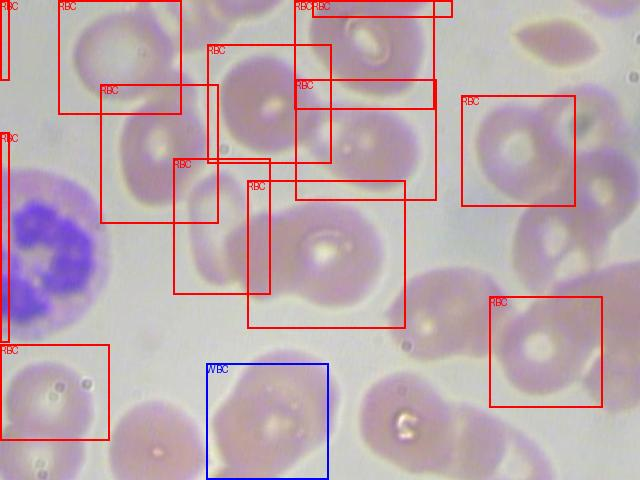RBC: (247, 180, 405, 328), (295, 79, 436, 200), (100, 84, 218, 223), (294, 0, 434, 109), (207, 44, 331, 163), (58, 0, 181, 114), (173, 158, 270, 294), (461, 95, 575, 206), (489, 296, 602, 407), (0, 344, 109, 440), (312, 0, 452, 17), (0, 132, 9, 342), (0, 0, 9, 80)
WBC: (206, 363, 328, 479)
